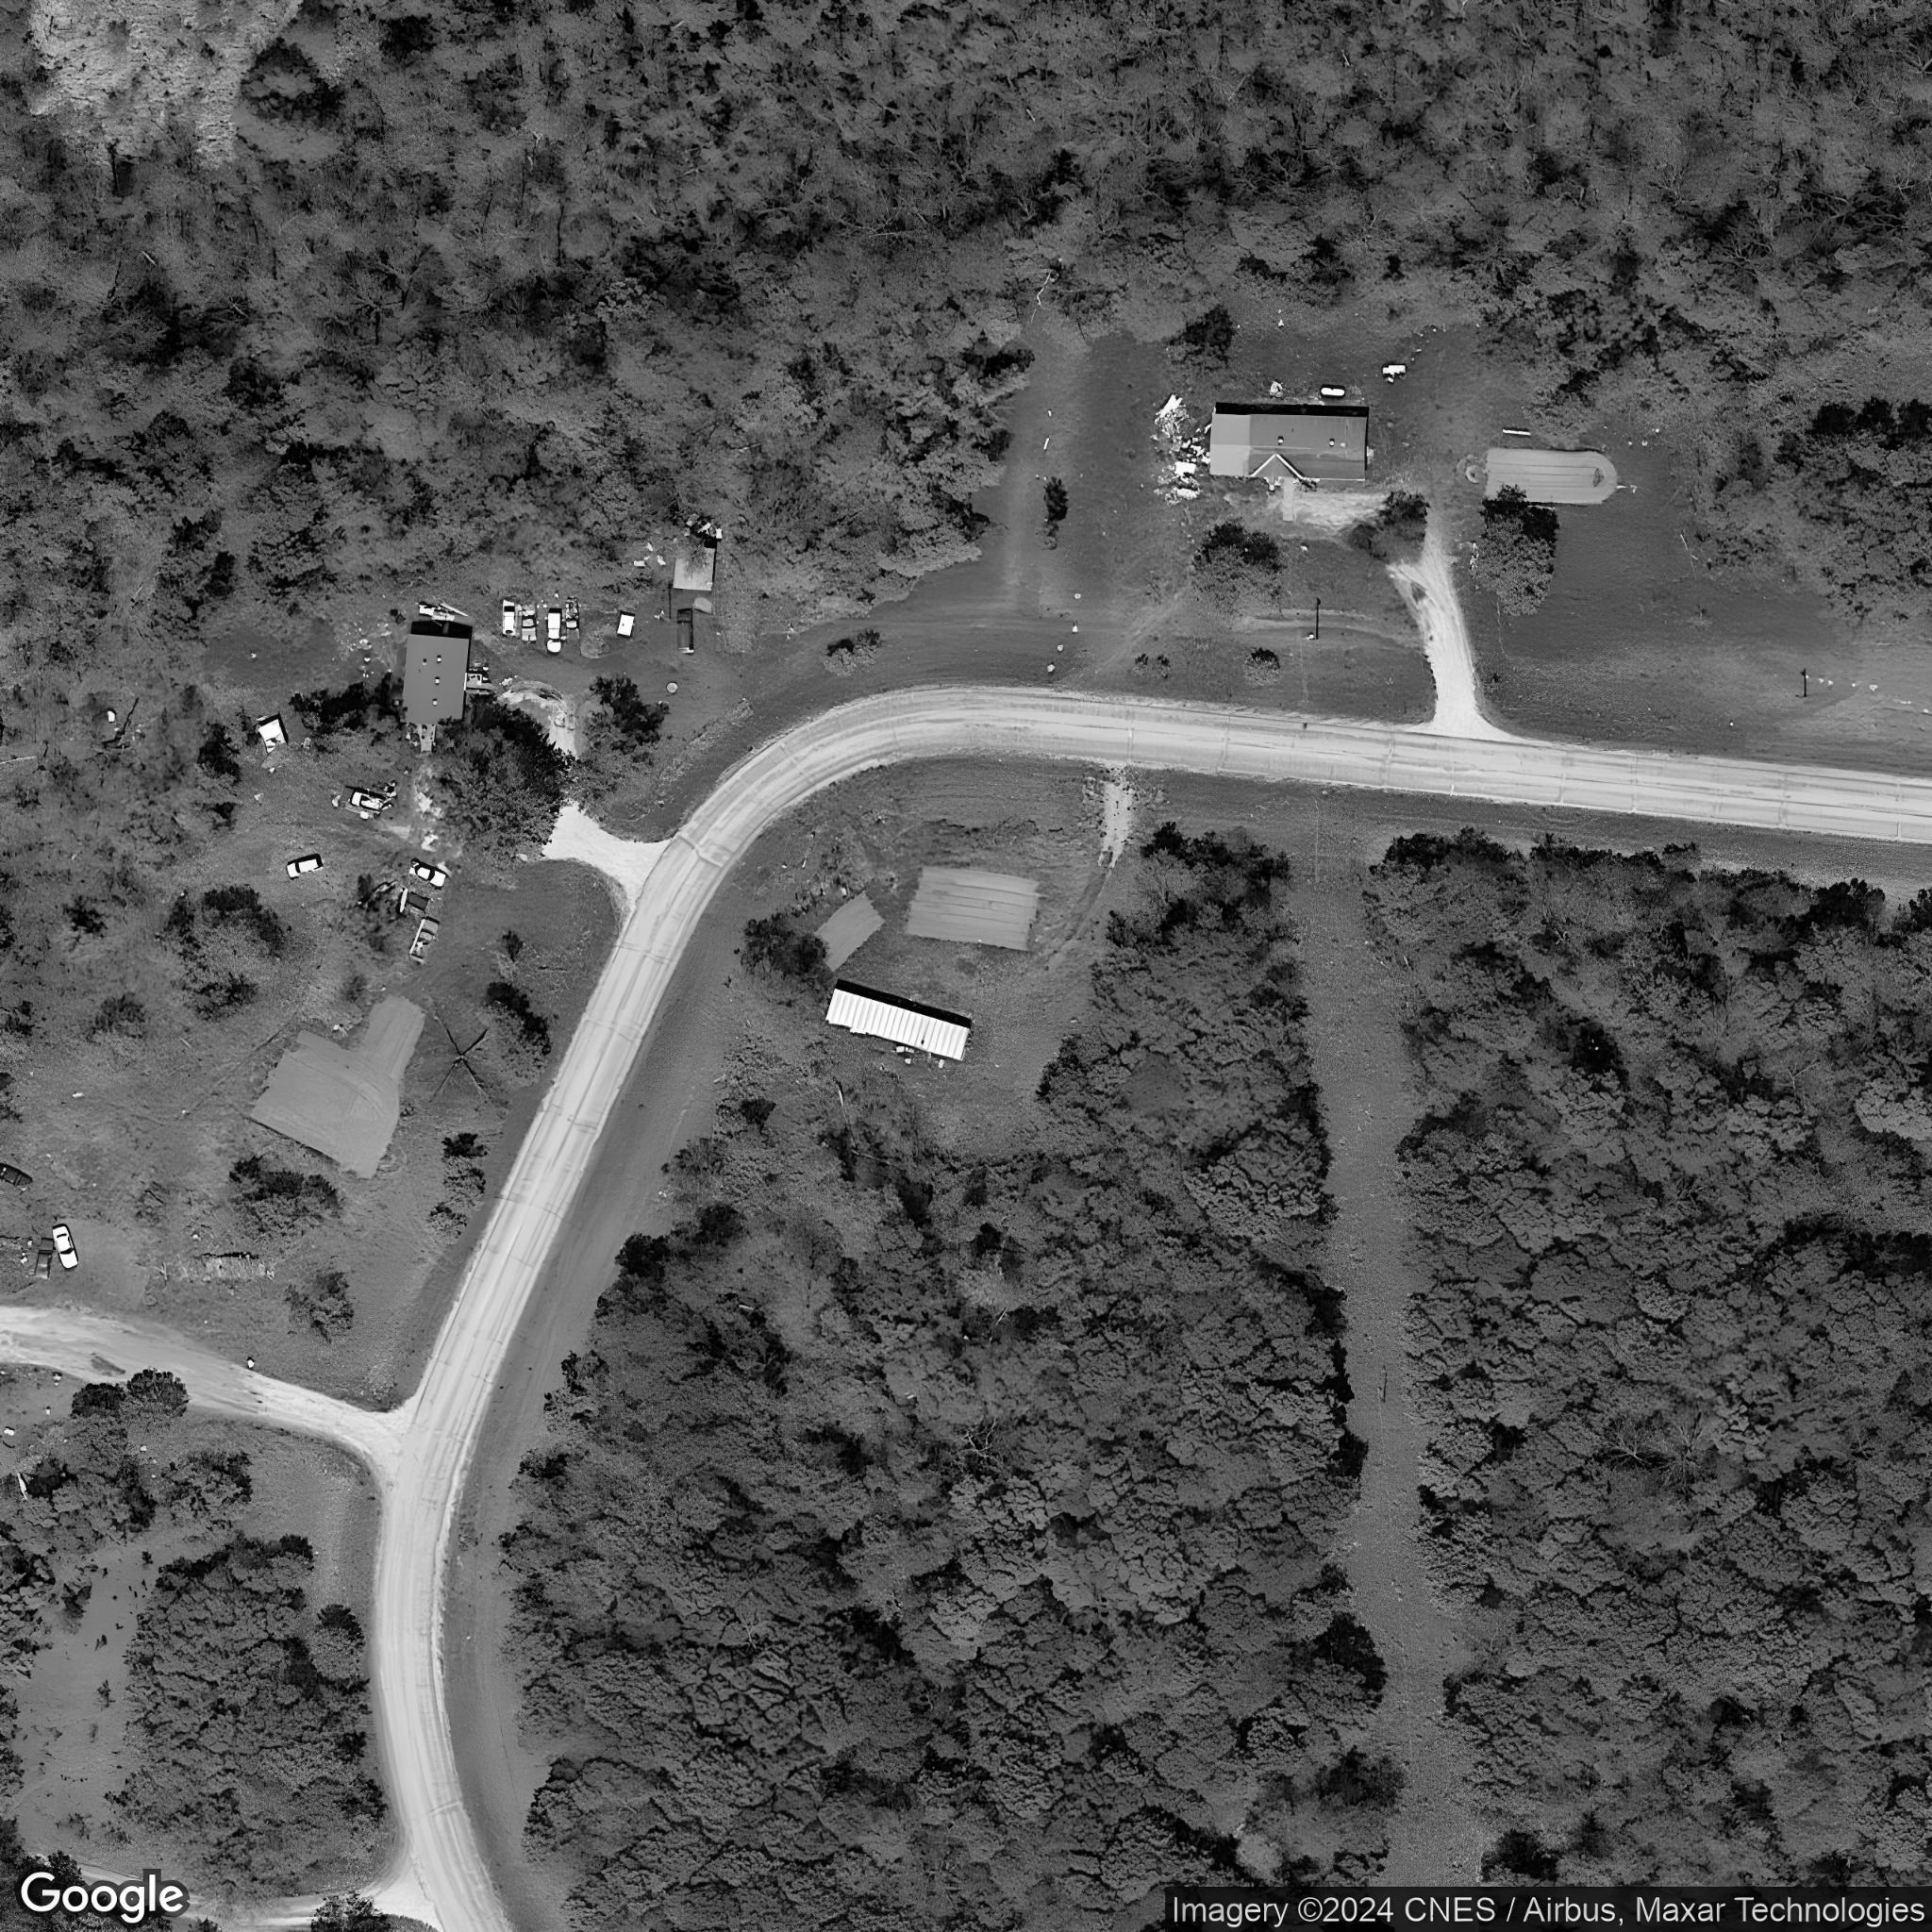House: (1208, 410, 1369, 483), (402, 633, 471, 722)
Propane: (1318, 382, 1348, 400)
Trailer: (821, 985, 973, 1062)
